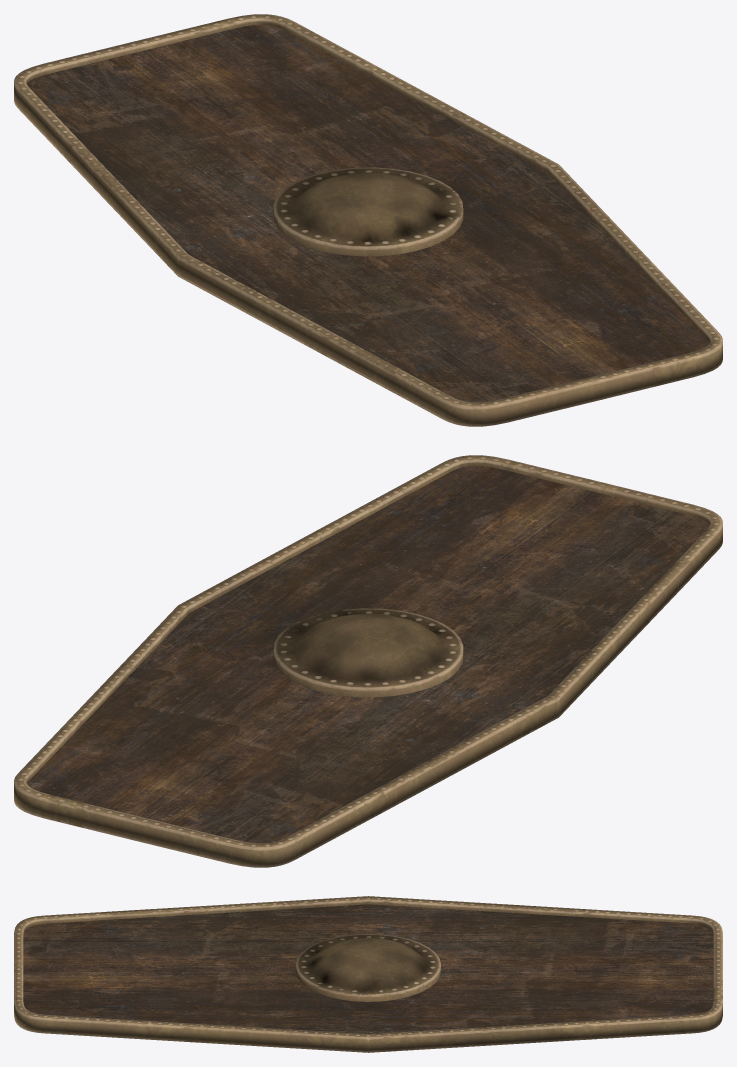
The model's file is dunland_wulf_shield_light_a.fbx.
The picture shows the model from 3 angles, top to bottom: view 1: azimuth 30°, elevation 25°; view 2: azimuth 150°, elevation 25°; view 3: azimuth 270°, elevation 25°; orthographic projection. The views are drawn at different scales.
Parts seen in each view (by area): view 1: dunland_wulf_shield_light_a; view 2: dunland_wulf_shield_light_a; view 3: dunland_wulf_shield_light_a.
Part boxes in pixels (x1=…): dunland_wulf_shield_light_a: x1=14, y1=14, x2=722, y2=426; dunland_wulf_shield_light_a: x1=14, y1=455, x2=722, y2=867; dunland_wulf_shield_light_a: x1=14, y1=896, x2=722, y2=1052.
Size of the model in its own units: 0.72 by 1.52 by 0.0818.
1 material, 1 textured.
